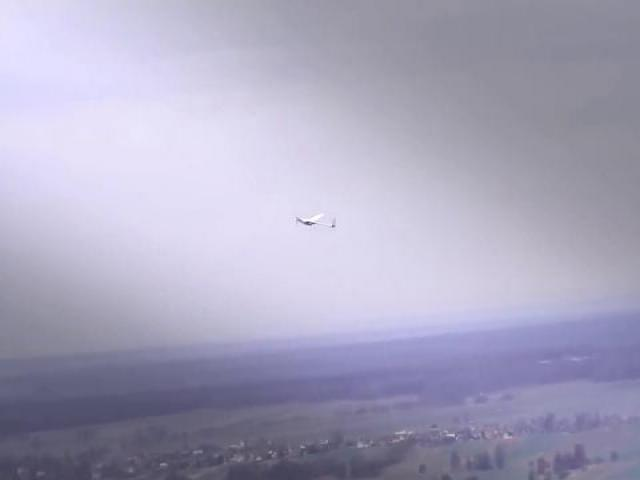flying wing: (291, 210, 341, 231)
